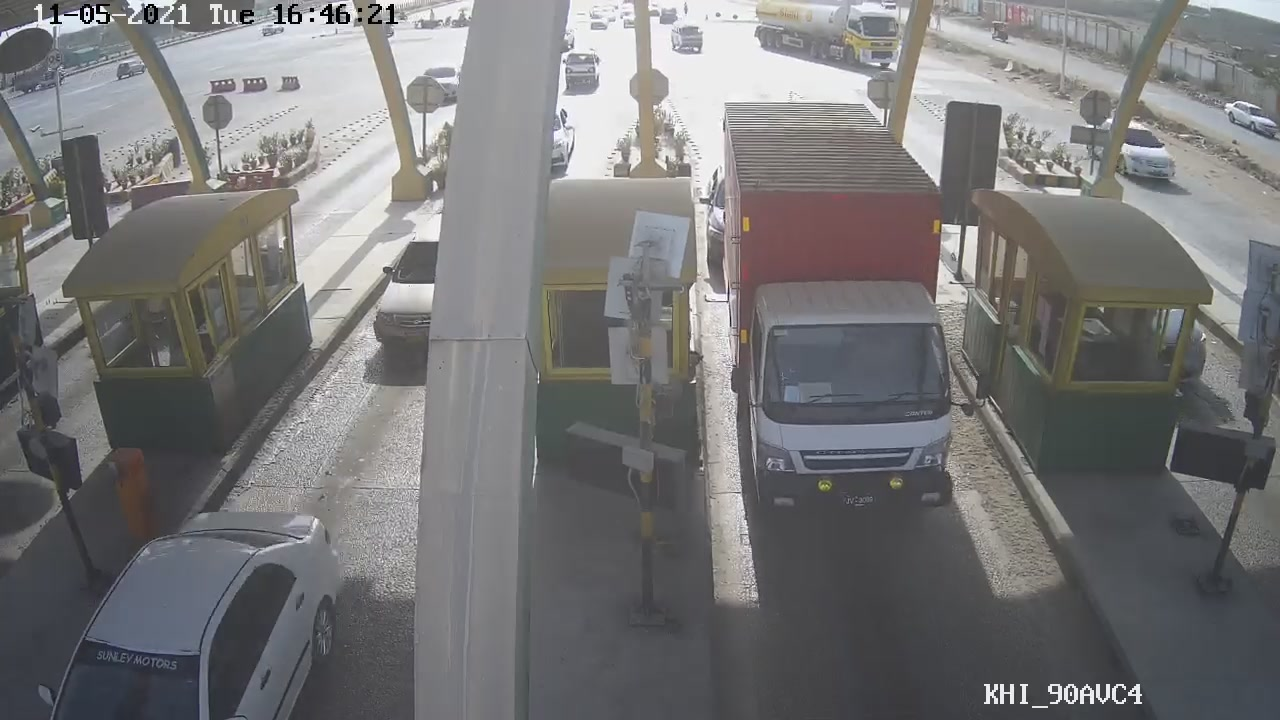F5: (705, 79, 975, 525)
